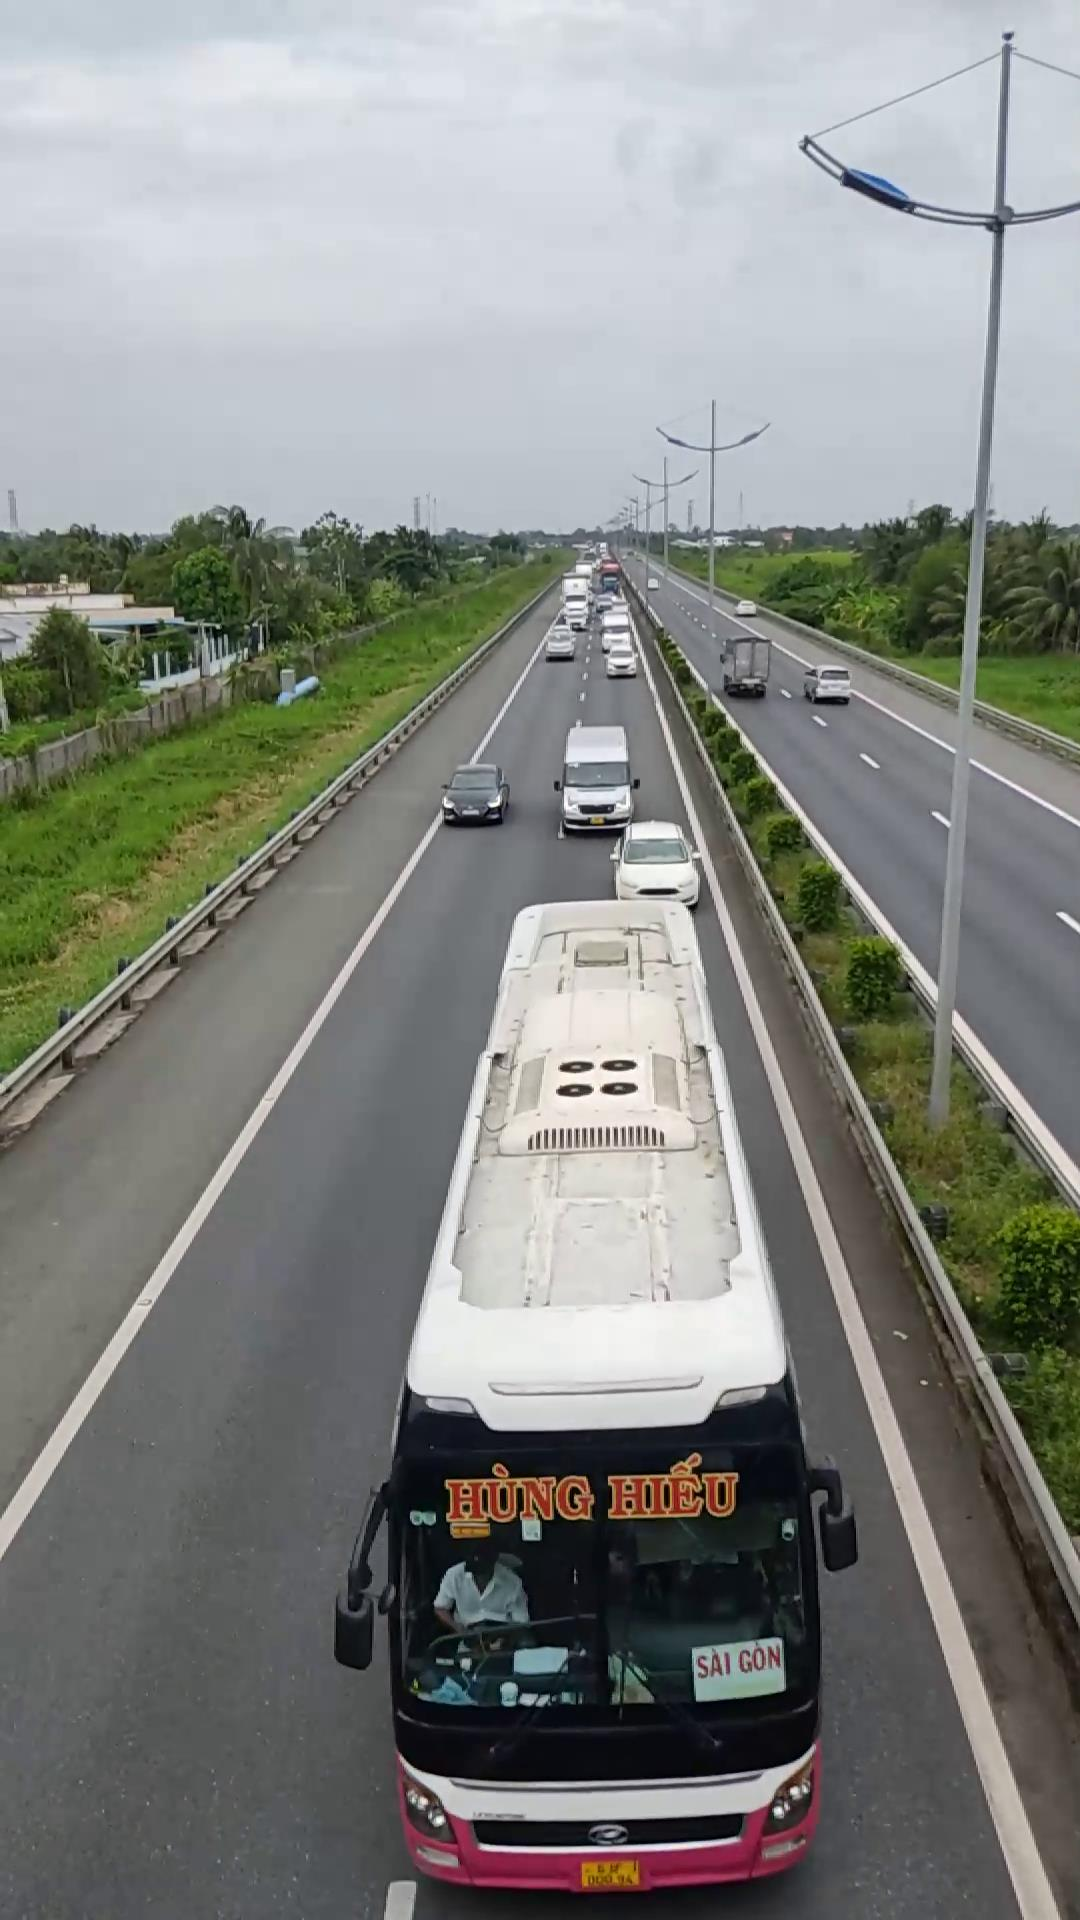bus: (363, 894, 851, 1912)
car: (555, 721, 640, 833), (440, 764, 512, 825)
